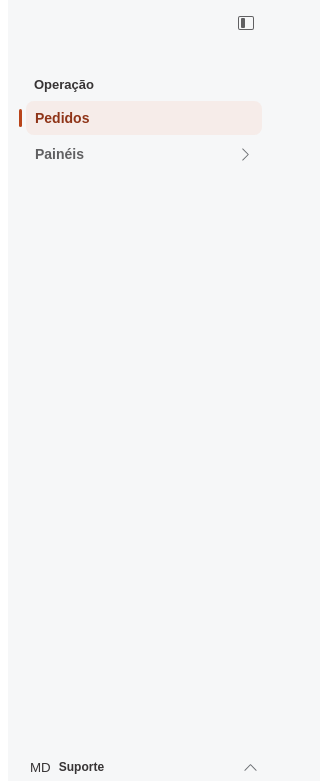
Test: Sidebar: pilha com vários níveis › conta em inline: entrar num ramo dela e fechá-la mantém a lista do módulo
This screenshot has width=320, height=781.
Click the button "MD Suporte" at coordinates (144, 767), box top-left (26, 755), bottom-right (262, 779)
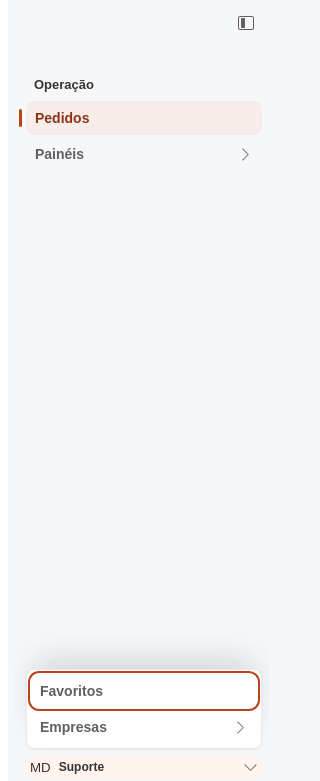
Click the button "Empresas" at coordinates (144, 727), box top-left (31, 710), bottom-right (257, 744)
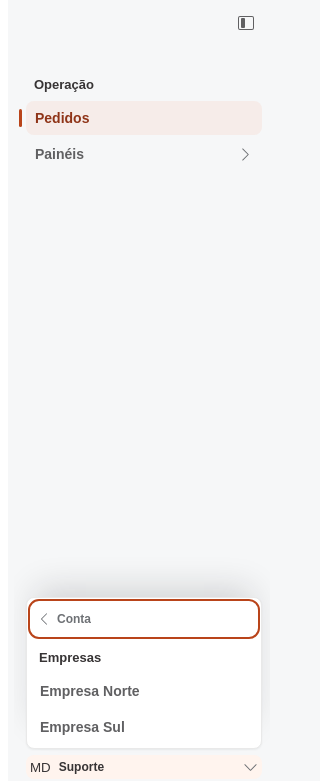
Expected: the button "MD Suporte" is expanded, top-left (26, 755), bottom-right (262, 779)
Expected: the link "Empresa Norte" is shown
Expected: the link "Favoritos" is gone
Press Escape in the link "Empresa Norte", box top-left (40, 683), bottom-right (140, 699)
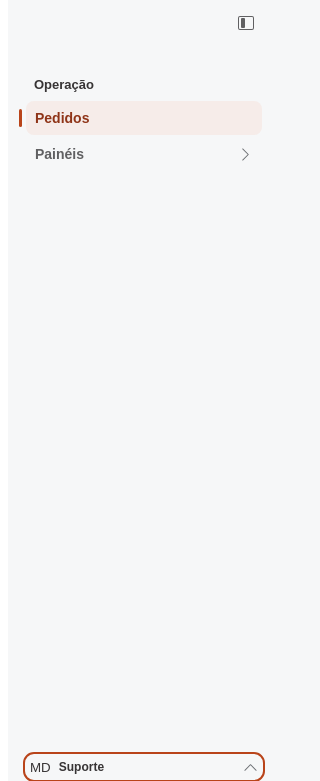
Expected: the link "Pedidos" is shown, top-left (26, 101), bottom-right (262, 135)
Expected: the button "MD Suporte" is collapsed
Click the button "MD Suporte" at coordinates (144, 767), box top-left (26, 755), bottom-right (262, 779)
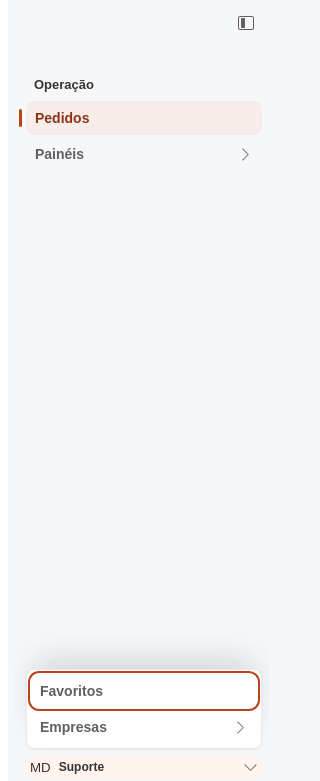
Expected: the link "Favoritos" is shown, top-left (40, 683), bottom-right (103, 699)
Expected: the button "Empresas" is shown, top-left (31, 710), bottom-right (257, 744)
